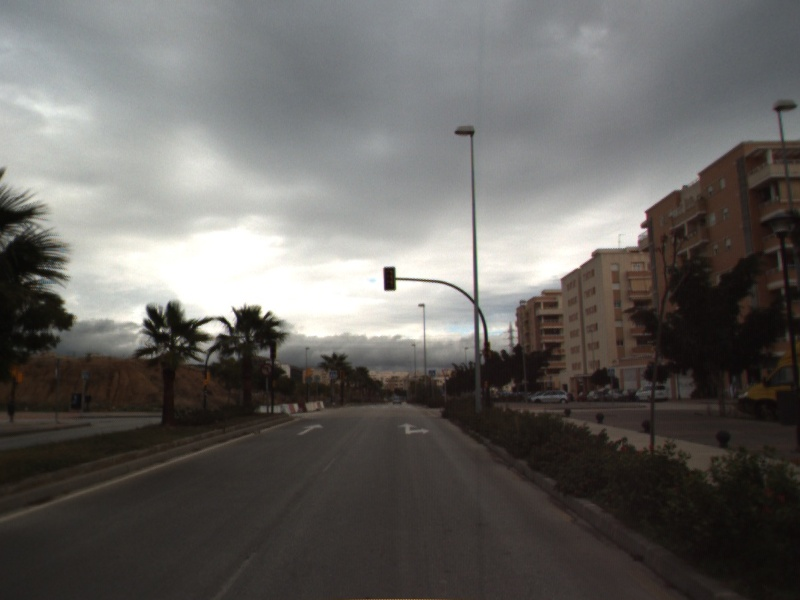STRAIGHT: (295, 421, 326, 437)
STRAIGHT_RIGHT: (396, 421, 432, 436)
